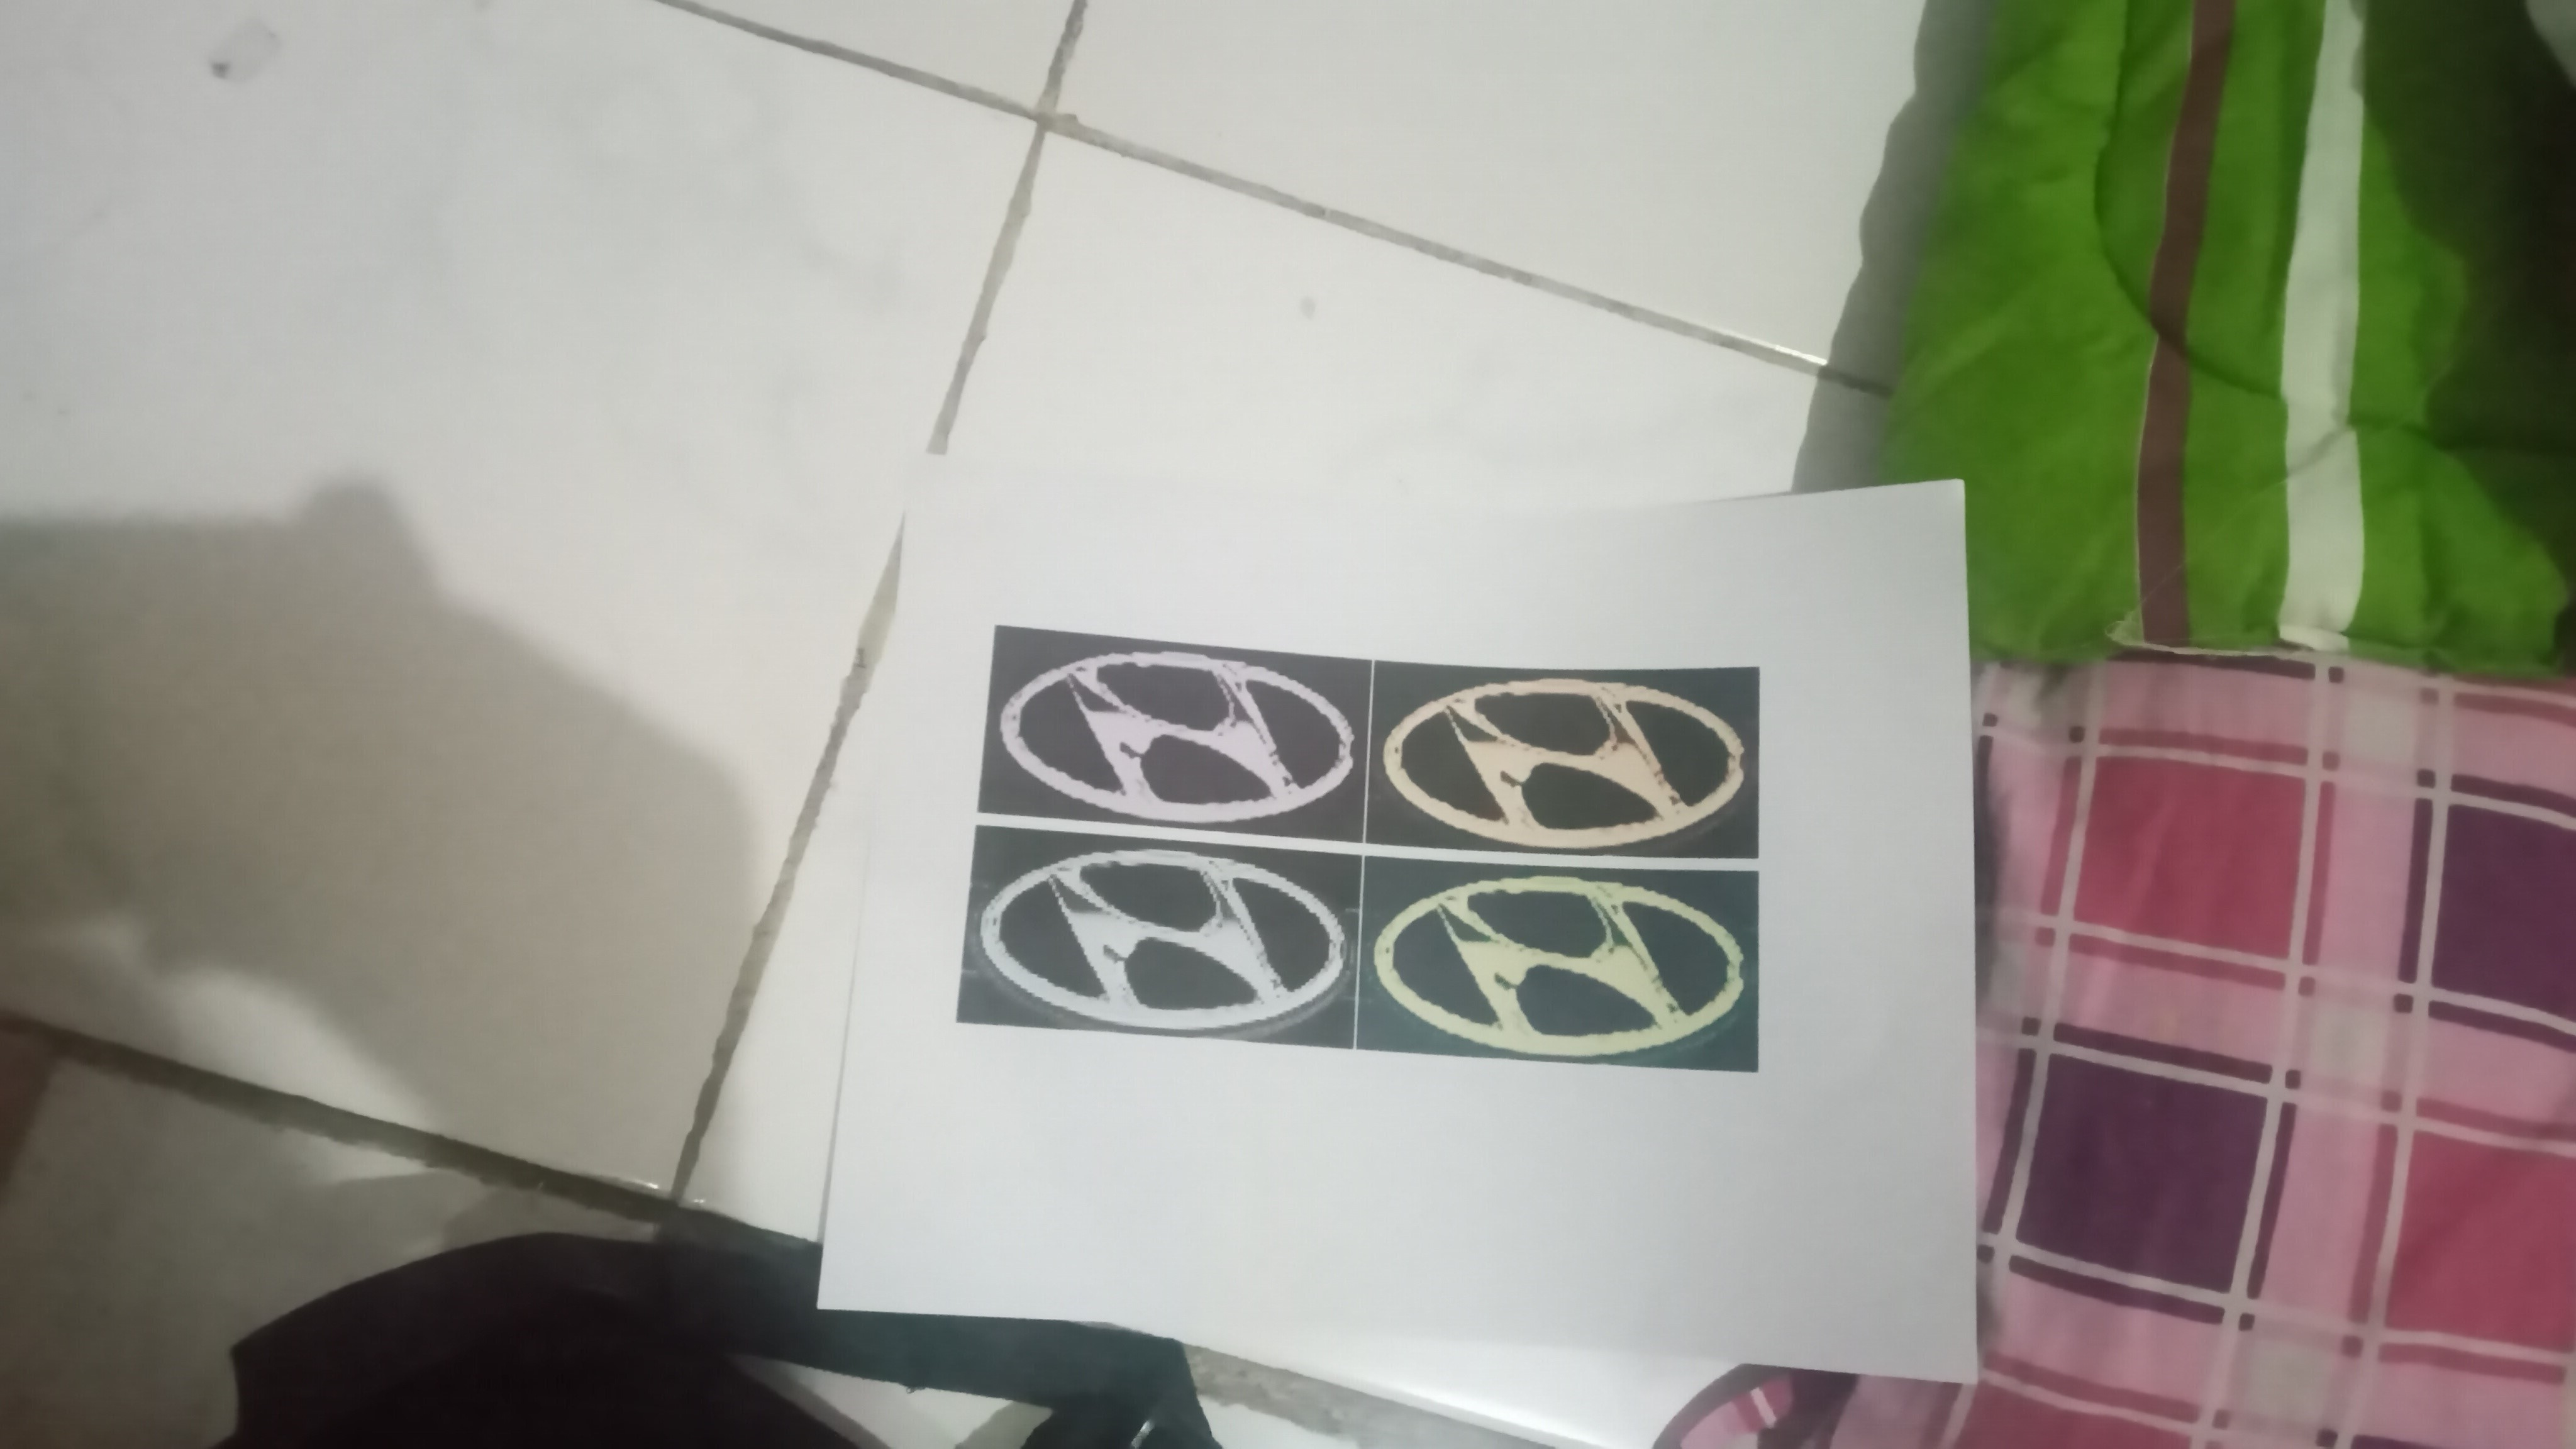Hyundai: (977, 830, 1350, 1047), (1369, 860, 1755, 1063), (982, 628, 1359, 832), (1378, 665, 1762, 855)
